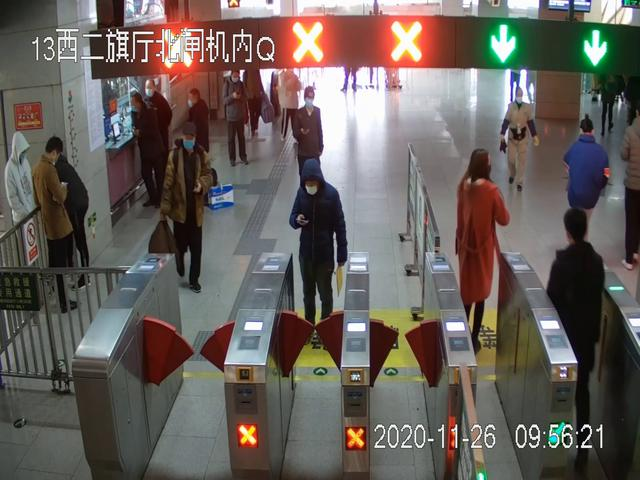person: (548, 208, 606, 456), (454, 148, 509, 352), (160, 122, 225, 293), (289, 157, 348, 343), (33, 135, 80, 313), (562, 113, 610, 240), (129, 91, 172, 209), (499, 87, 539, 192), (5, 130, 34, 266), (292, 88, 324, 183), (223, 69, 253, 167), (276, 66, 304, 141), (187, 88, 213, 168)
